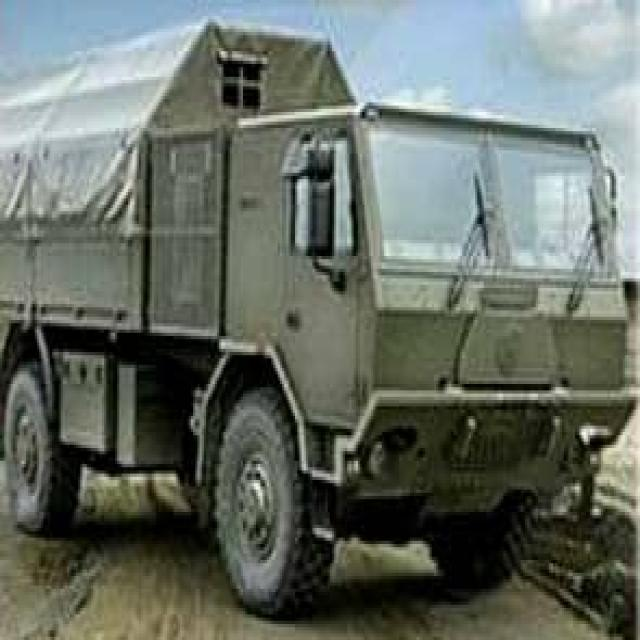truck: (0, 22, 635, 615)
